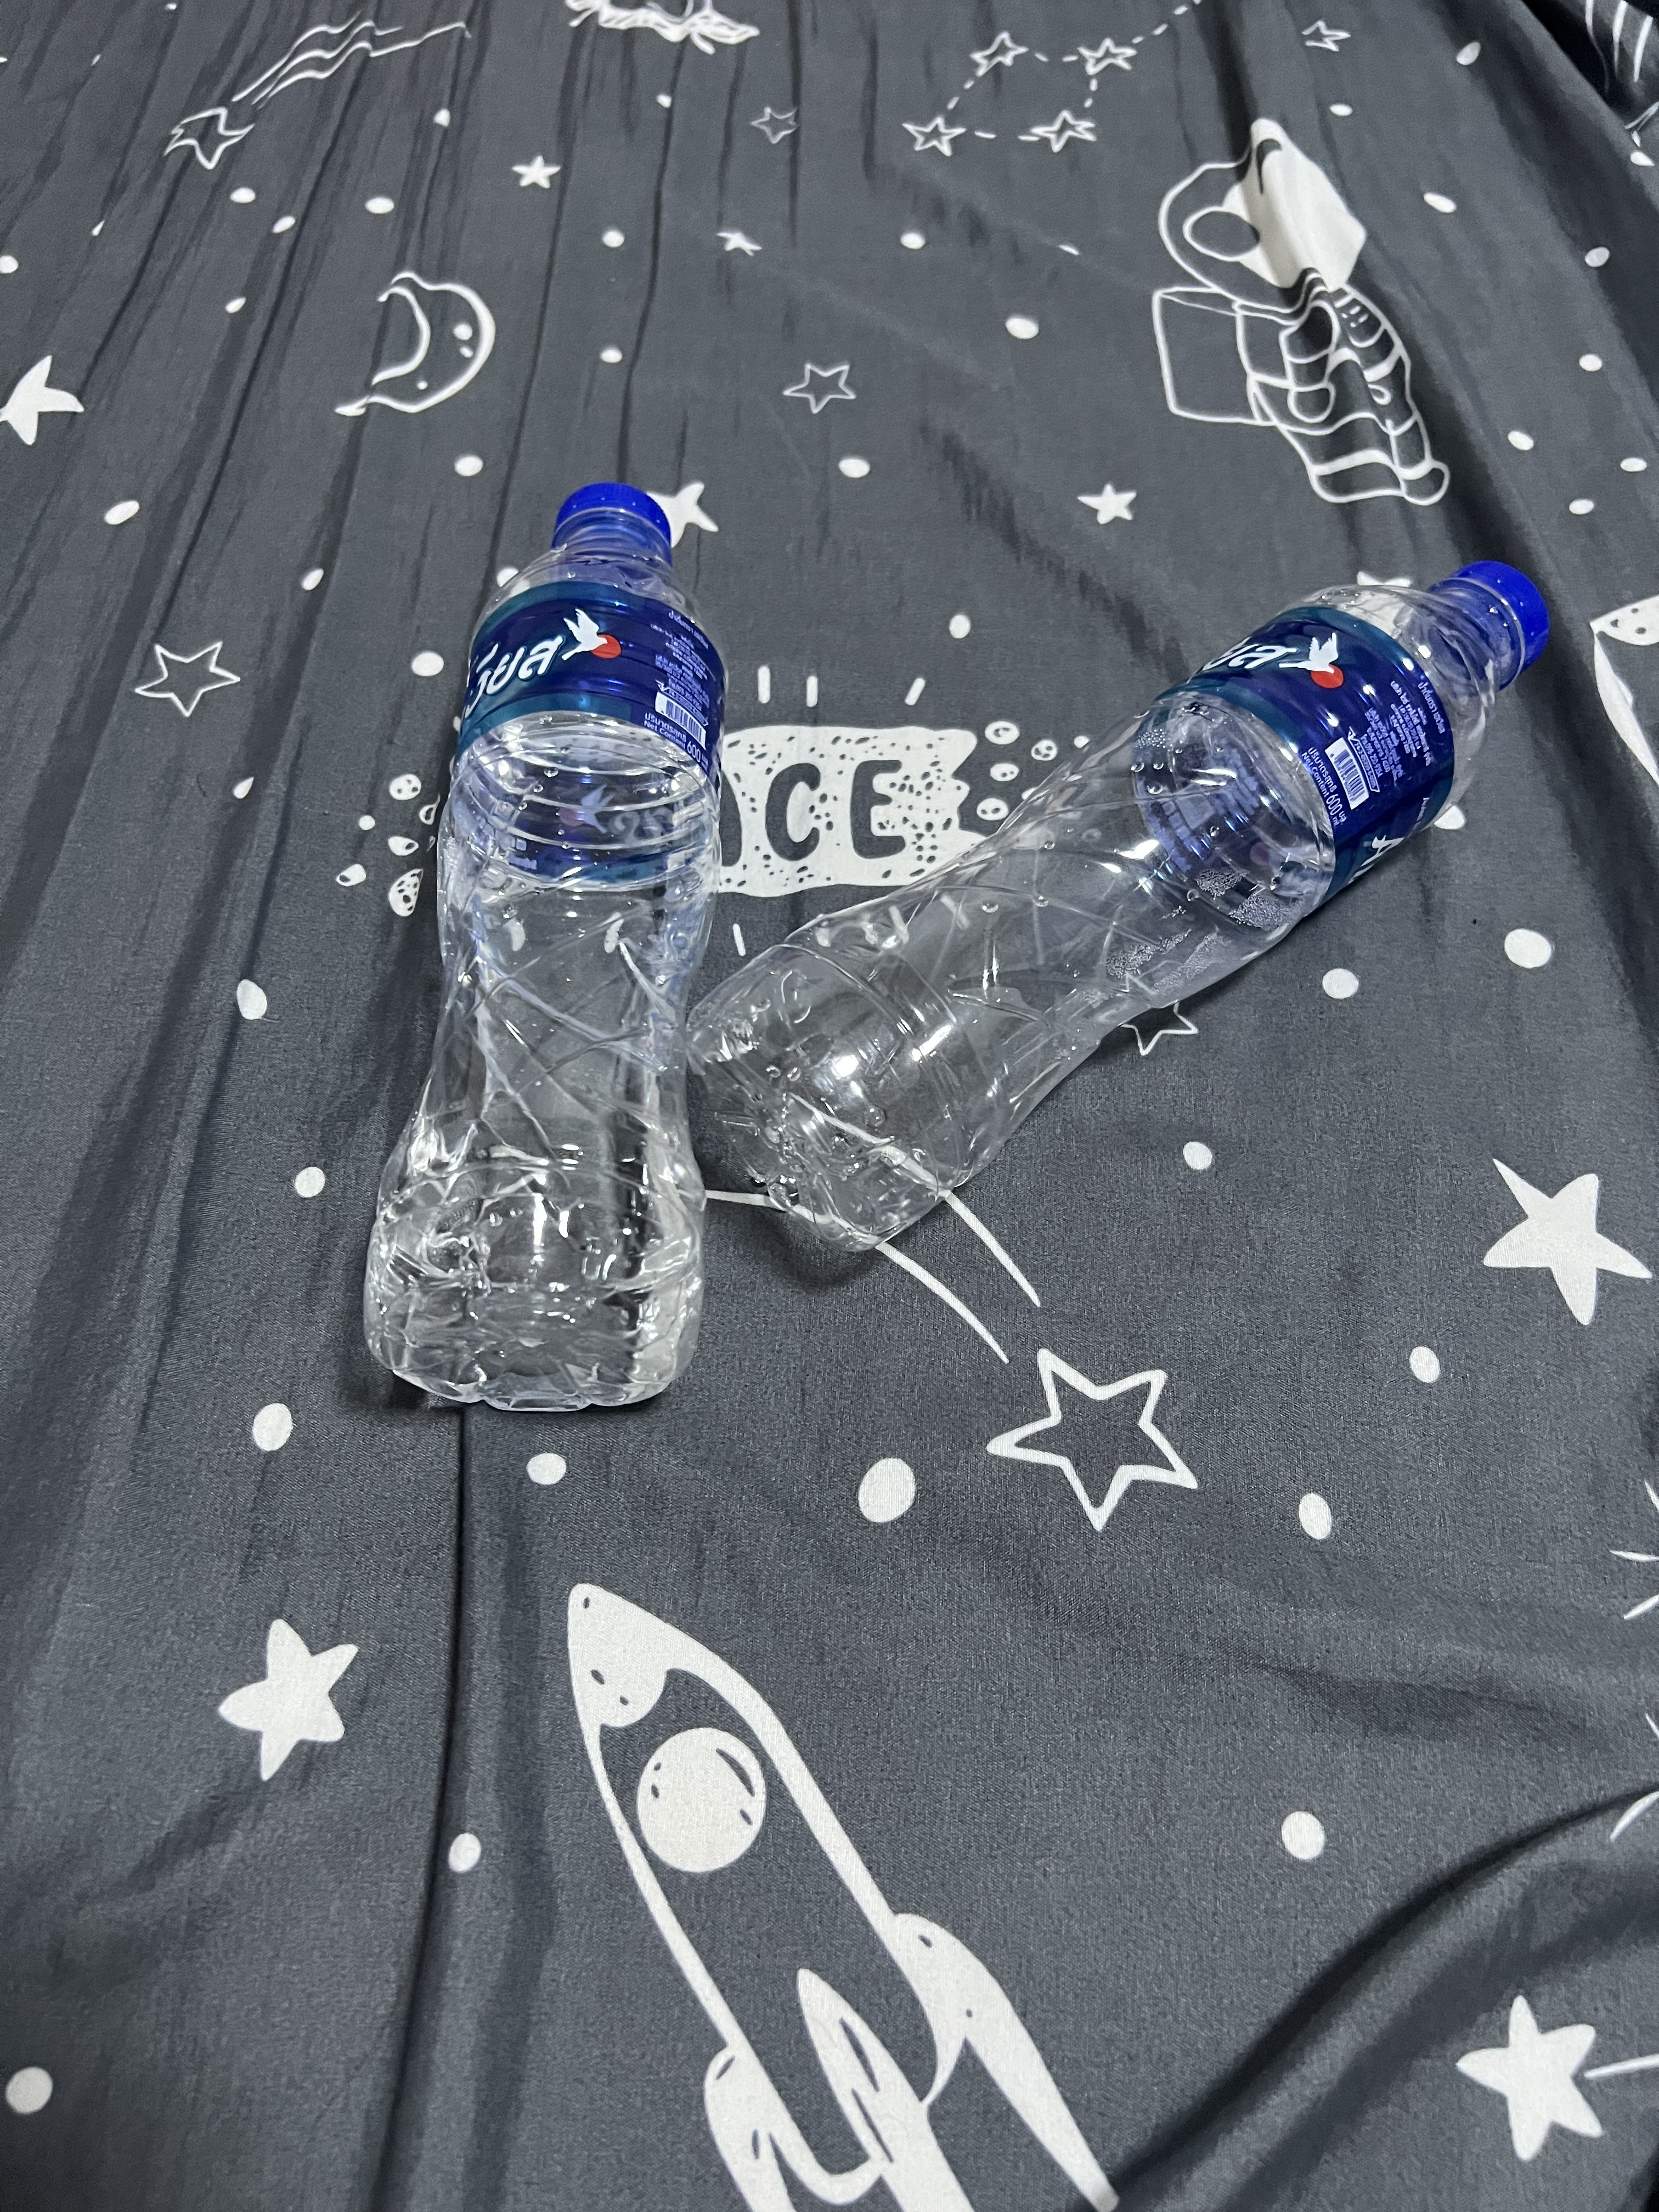plastic_bottle: (708, 561, 1570, 1278), (375, 423, 716, 1440)
